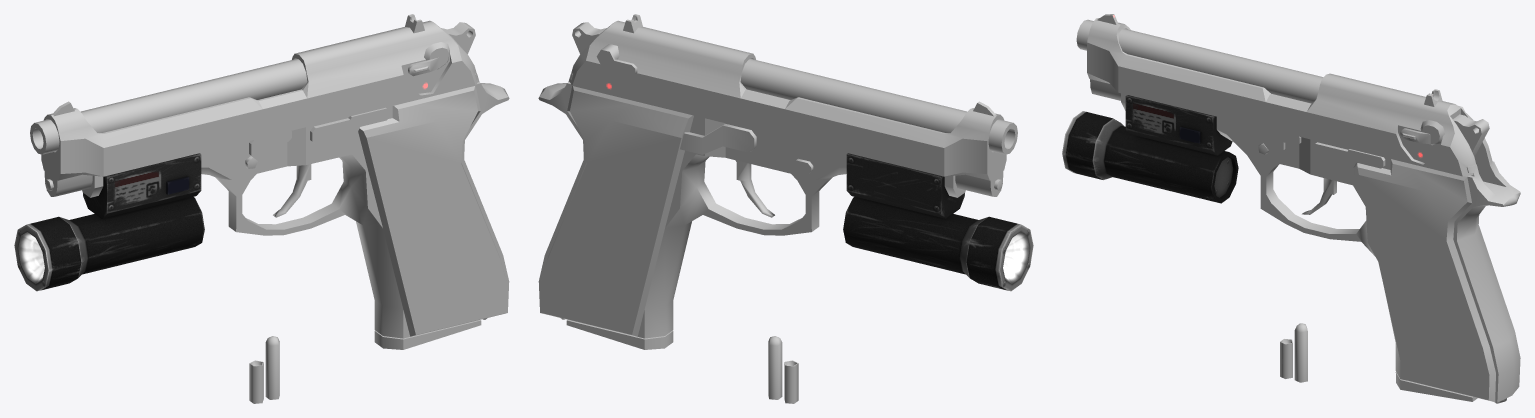
File: HandGun.fbx
3 renders of one model, left to right at view 1: azimuth 30°, elevation 25°; view 2: azimuth 150°, elevation 25°; view 3: azimuth 330°, elevation 25°, orthographic. The views are drawn at different scales.
Parts seen in each view (by area): view 1: polySurface54, polySurface55, polySurface56, pPipe4, polySurface58, pCylinder12, polySurface52, pCylinder13, polySurface53; view 2: polySurface54, polySurface55, polySurface56, pPipe4, polySurface58, pCylinder12, polySurface52, pCylinder13, polySurface53; view 3: polySurface54, polySurface55, polySurface56, pPipe4, pCylinder12, polySurface53, polySurface58, pCylinder13.
Boxes of the visible parts, bbox=[...] form: polySurface54: bbox=[45, 72, 509, 338]; polySurface55: bbox=[41, 14, 478, 196]; polySurface56: bbox=[14, 153, 204, 291]; pPipe4: bbox=[30, 59, 307, 154]; polySurface58: bbox=[374, 320, 481, 349]; pCylinder12: bbox=[265, 336, 279, 399]; polySurface52: bbox=[273, 164, 311, 217]; pCylinder13: bbox=[249, 360, 263, 403]; polySurface53: bbox=[441, 22, 475, 54]; polySurface54: bbox=[538, 72, 1002, 338]; polySurface55: bbox=[569, 14, 1006, 196]; polySurface56: bbox=[843, 153, 1033, 291]; pPipe4: bbox=[740, 59, 1017, 154]; polySurface58: bbox=[566, 320, 673, 349]; pCylinder12: bbox=[768, 336, 782, 399]; polySurface52: bbox=[735, 160, 774, 217]; pCylinder13: bbox=[784, 360, 798, 403]; polySurface53: bbox=[572, 22, 606, 54]; polySurface54: bbox=[1121, 93, 1520, 403]; polySurface55: bbox=[1087, 14, 1475, 176]; polySurface56: bbox=[1062, 95, 1238, 203]; pPipe4: bbox=[1076, 19, 1323, 103]; pCylinder12: bbox=[1294, 323, 1307, 382]; polySurface53: bbox=[1453, 114, 1489, 156]; polySurface58: bbox=[1395, 372, 1477, 401]; pCylinder13: bbox=[1280, 339, 1292, 378].
Size of the model in its own units: 27.47 by 19.11 by 3.44.
